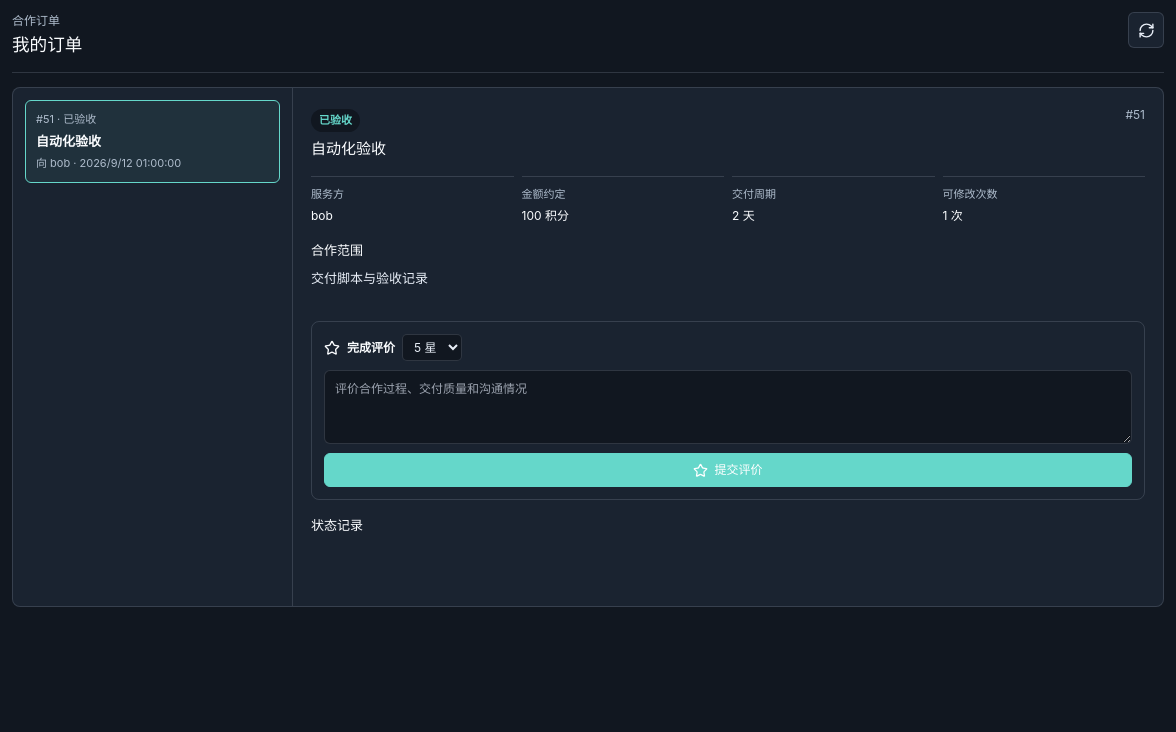
Scenario: MarketplaceOrdersPanel › submits rating and review text only when the server exposes review
Select "5 星" in the dropdown named "评分": point(432, 348) [402,334,462,361]
In the text box with placeholder "评价合作过程、交付质量和沟通情况": point(728, 407) [324,370,1132,444], type "交付清楚"
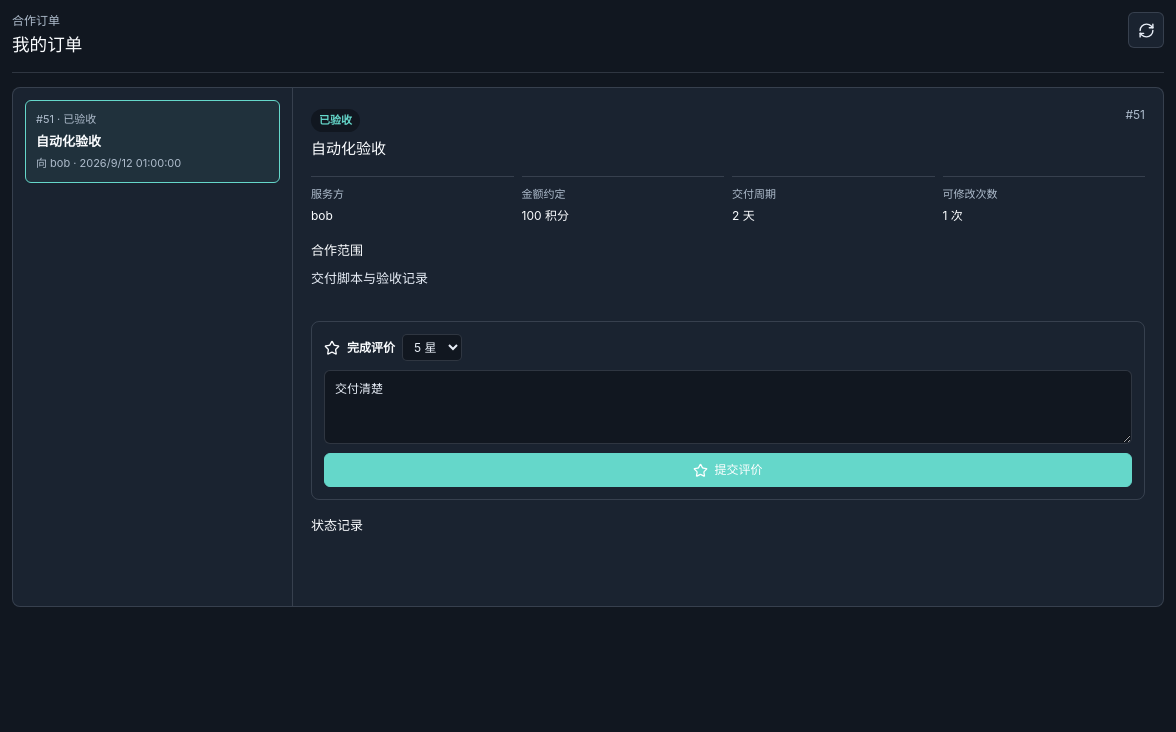
Submit the form with class "order-review", box [311,321,1145,500]
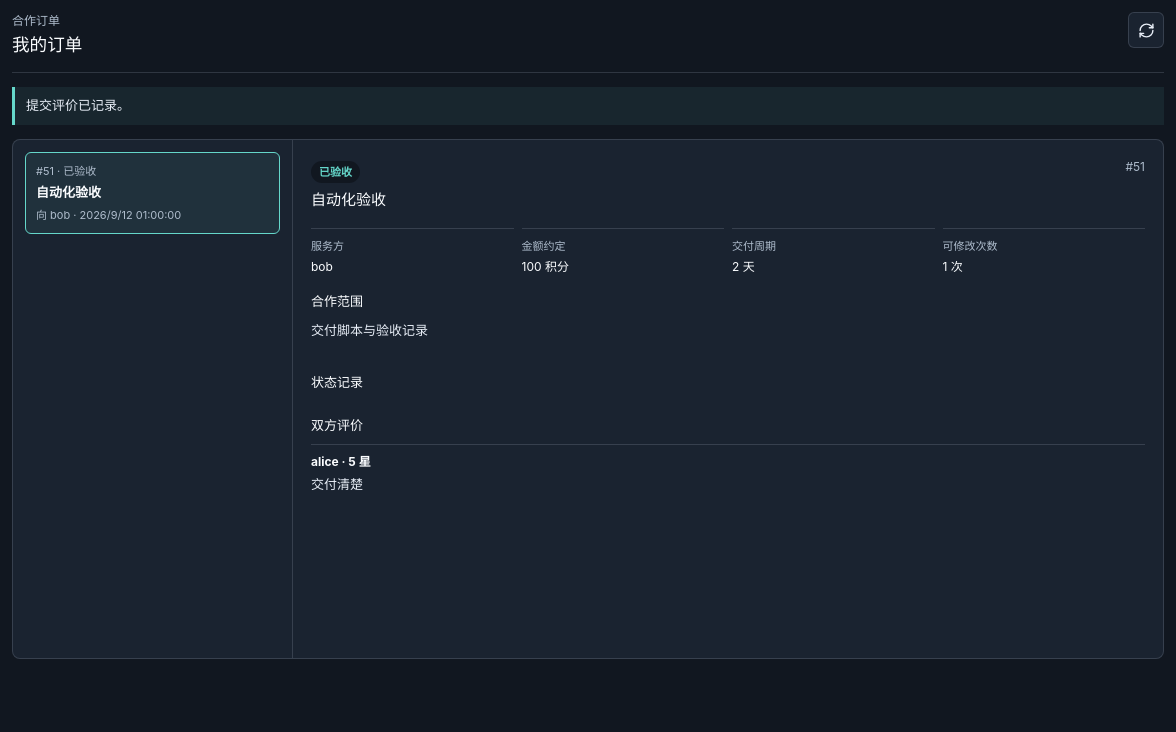
Expected: the text "交付清楚" is shown, [311,476,363,492]
